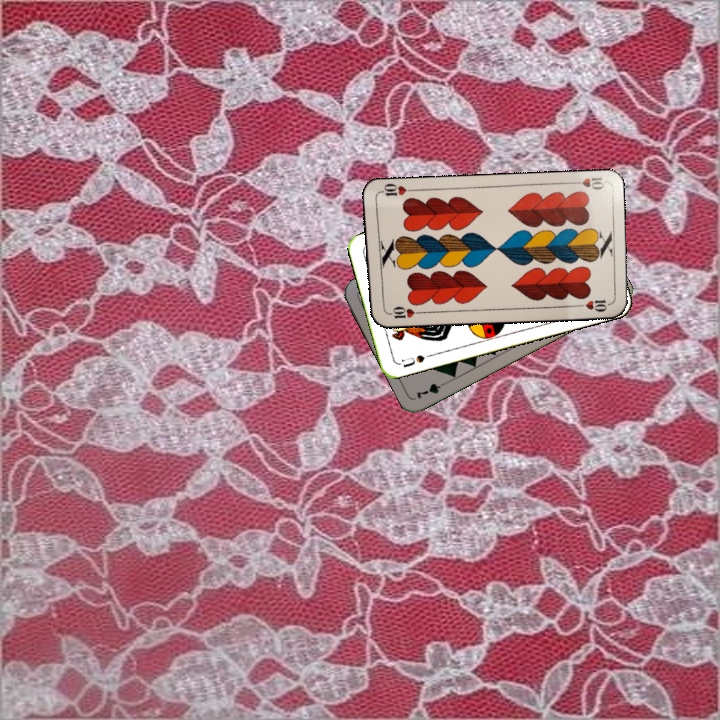G7: (412, 377, 451, 402)
H10: (566, 173, 607, 192), (383, 302, 423, 321)
SU: (395, 350, 435, 370)
